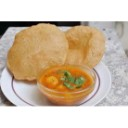poori: (8, 24, 67, 80), (64, 25, 105, 68)
